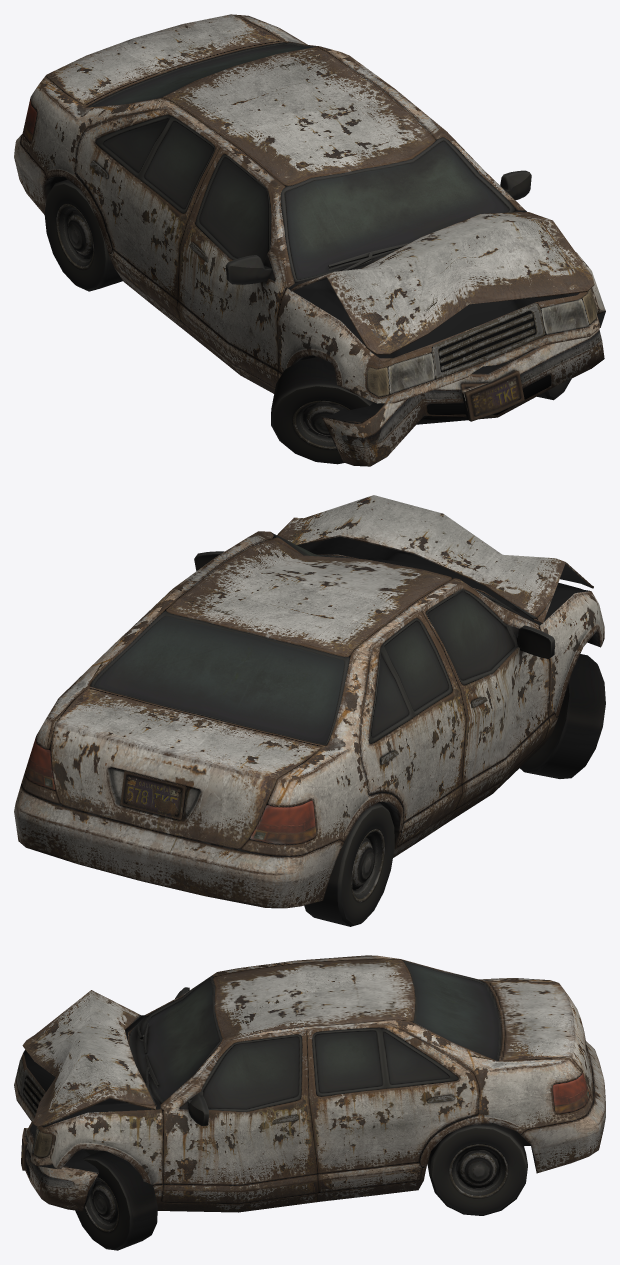
File: rust in road 1.fbx
The picture shows the model from 3 angles, top to bottom: view 1: azimuth 30°, elevation 25°; view 2: azimuth 150°, elevation 25°; view 3: azimuth 270°, elevation 25°; orthographic projection. The views are drawn at different scales.
Visible parts, largest first — view 1: 1; view 2: 1; view 3: 1.
Boxes of the visible parts, <box> form: 1: <box>14,14,605,466</box>; 1: <box>14,495,605,926</box>; 1: <box>14,955,605,1250</box>.
Bounding box in the file's own units: 334 × 239 × 613.
